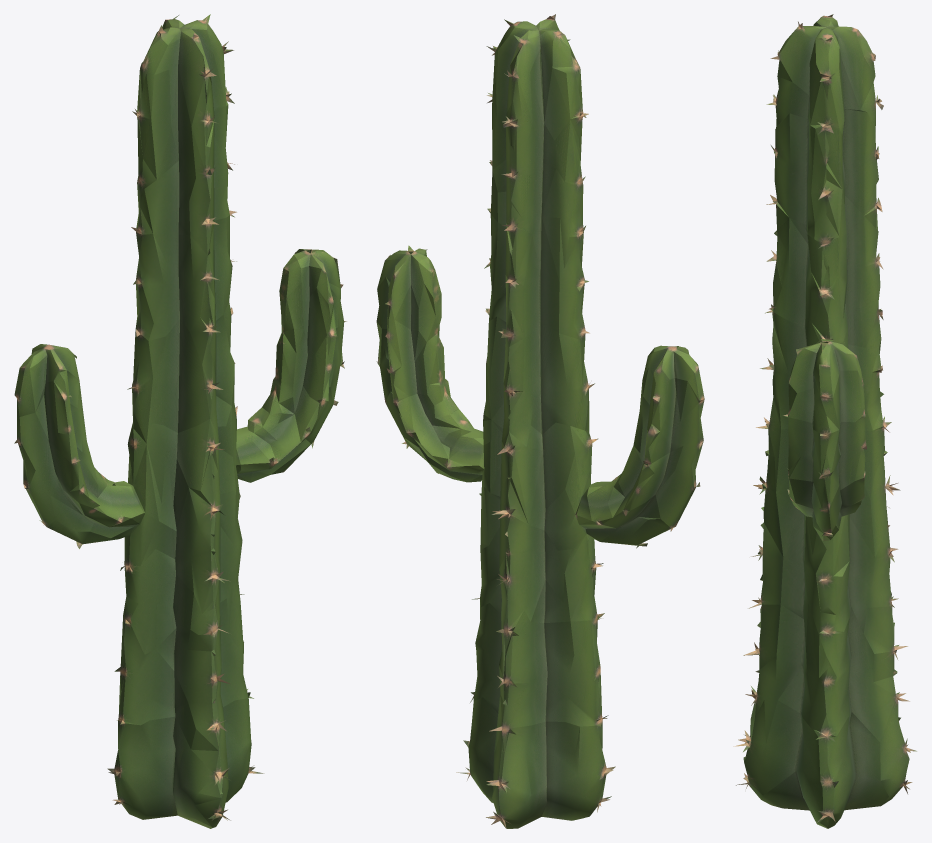
The model's file is cactus.glb.
3 renders of one model, left to right at view 1: azimuth 30°, elevation 25°; view 2: azimuth 150°, elevation 25°; view 3: azimuth 270°, elevation 25°, orthographic.
Bounding box in the file's own units: 0.8251 × 1.89 × 0.4056.
1 material, 1 textured.
